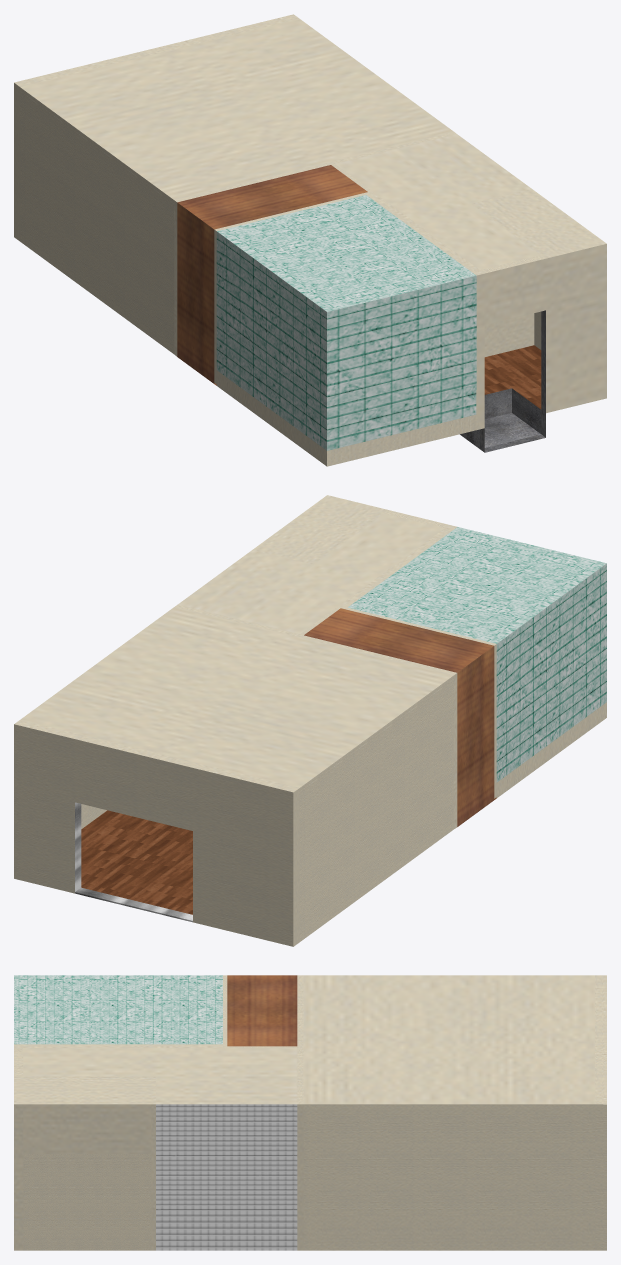
File: new_room.fbx
3 renders of one model, top to bottom at view 1: azimuth 30°, elevation 25°; view 2: azimuth 150°, elevation 25°; view 3: azimuth 270°, elevation 25°, orthographic. The views are drawn at different scales.
Visible parts, largest first — view 1: room; view 2: room; view 3: room.
Boxes of the visible parts, left/top/right/bottom form: room: left=14, top=14, right=606, bottom=466; room: left=14, top=495, right=606, bottom=946; room: left=14, top=975, right=606, bottom=1250.
Bounding box in the file's own units: 811 × 496 × 1573.
